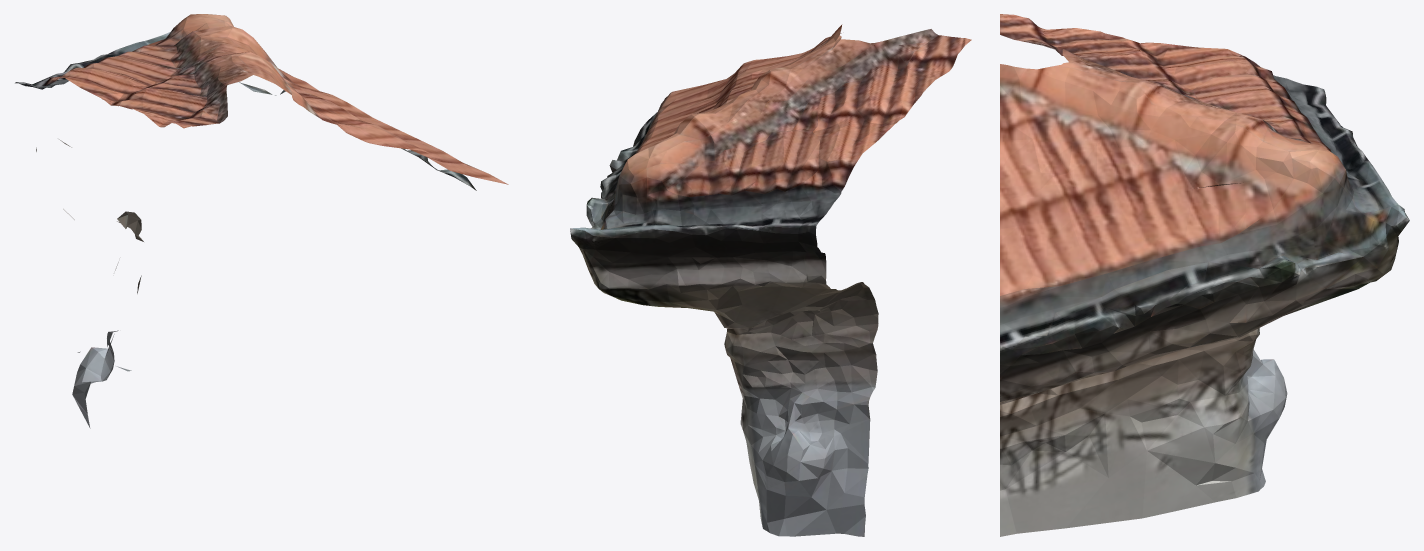
3 views of the same model, side by side, from view 1: azimuth 30°, elevation 25°; view 2: azimuth 150°, elevation 25°; view 3: azimuth 270°, elevation 25° (orthographic). The views are drawn at different scales.
Bounding box in the file's own units: 1.38 × 1.67 × 1.43.
Materials: 3 (3 with a texture image).
